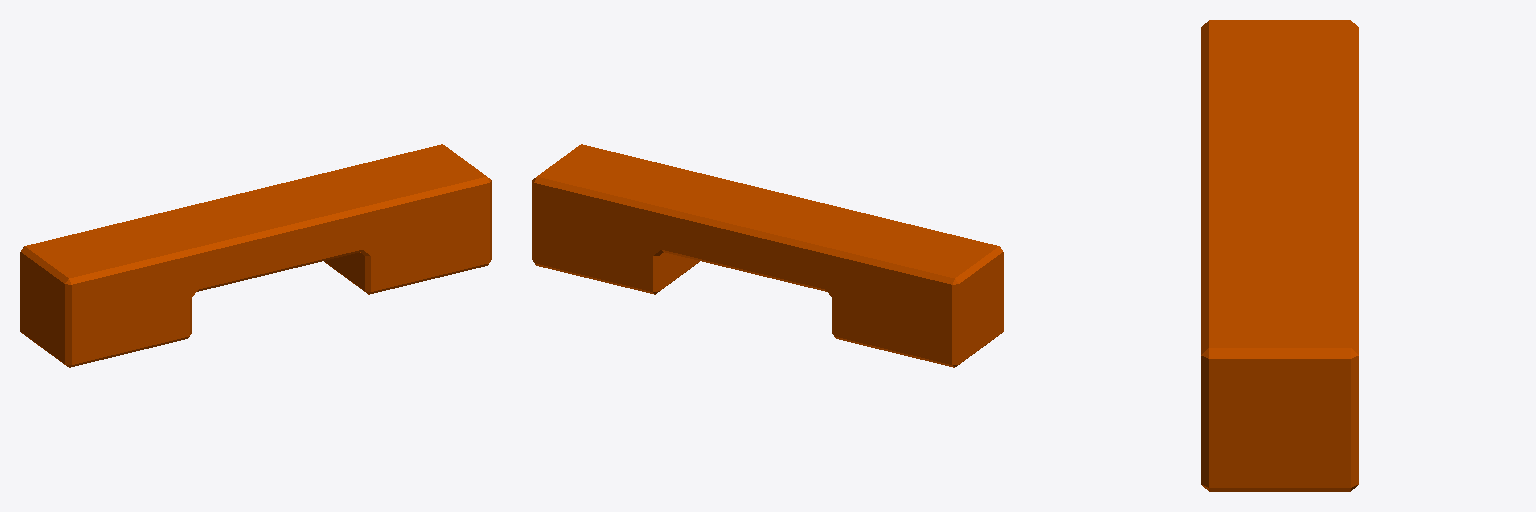
robot.urdf — obj_1:
<robot name="obj_1" version="1.0">
  <link name="obj_1">
    <collision name="obj_1.001">
      <origin rpy="0.00000 0.00000 0.00000" xyz="0.00000 0.00000 0.00000"/>
      <geometry>
        <mesh filename="../meshes/obj/geometry_0.002.obj" scale="1.00000 1.00000 1.00000"/>
      </geometry>
    </collision>
    <collision name="obj_1.002">
      <origin rpy="0.00000 0.00000 0.00000" xyz="0.00000 0.00000 0.00000"/>
      <geometry>
        <mesh filename="../meshes/obj/geometry_1.002.obj" scale="1.00000 1.00000 1.00000"/>
      </geometry>
    </collision>
    <collision name="obj_1.003">
      <origin rpy="0.00000 0.00000 0.00000" xyz="0.00000 0.00000 0.00000"/>
      <geometry>
        <mesh filename="../meshes/obj/geometry_2.002.obj" scale="1.00000 1.00000 1.00000"/>
      </geometry>
    </collision>
    <collision name="obj_1.004">
      <origin rpy="0.00000 0.00000 0.00000" xyz="0.00000 0.00000 0.00000"/>
      <geometry>
        <mesh filename="../meshes/obj/geometry_3.002.obj" scale="1.00000 1.00000 1.00000"/>
      </geometry>
    </collision>
    <collision name="obj_1.005">
      <origin rpy="0.00000 0.00000 0.00000" xyz="0.00000 0.00000 0.00000"/>
      <geometry>
        <mesh filename="../meshes/obj/geometry_4.002.obj" scale="1.00000 1.00000 1.00000"/>
      </geometry>
    </collision>
    <collision name="obj_1.006">
      <origin rpy="0.00000 0.00000 0.00000" xyz="0.00000 0.00000 0.00000"/>
      <geometry>
        <mesh filename="../meshes/obj/geometry_5.001.obj" scale="1.00000 1.00000 1.00000"/>
      </geometry>
    </collision>
    <collision name="obj_1.007">
      <origin rpy="0.00000 0.00000 0.00000" xyz="0.00000 0.00000 0.00000"/>
      <geometry>
        <mesh filename="../meshes/obj/geometry_6.001.obj" scale="1.00000 1.00000 1.00000"/>
      </geometry>
    </collision>
    <collision name="obj_1.008">
      <origin rpy="0.00000 0.00000 0.00000" xyz="0.00000 0.00000 0.00000"/>
      <geometry>
        <mesh filename="../meshes/obj/geometry_7.001.obj" scale="1.00000 1.00000 1.00000"/>
      </geometry>
    </collision>
    <collision name="obj_1.009">
      <origin rpy="0.00000 0.00000 0.00000" xyz="0.00000 0.00000 0.00000"/>
      <geometry>
        <mesh filename="../meshes/obj/geometry_8.obj" scale="1.00000 1.00000 1.00000"/>
      </geometry>
    </collision>
    <inertial>
      <inertia ixx="0.00002" ixy="0.00000" ixz="0.00000" iyy="0.00023" iyz="-0.00000" izz="0.00023"/>
      <origin rpy="0.00000 0.00000 0.00000" xyz="0.00000 0.00000 0.00000"/>
      <mass value="0.01000"/>
    </inertial>
    <visual name="obj_1_vis">
      <material name="turnarrow_orange"/>
      <origin rpy="3.14159 -0.00000 3.14159" xyz="-0.26466 0.24927 0.29151"/>
      <geometry>
        <mesh filename="../meshes/obj/obj_1_LUBAANSUO2.stp.obj" scale="0.00500 0.00500 0.00500"/>
      </geometry>
    </visual>
  </link>
  <material name="turnarrow_orange">
    <color rgba="0.78824 0.34510 0.00000 1.00000"/>
  </material>
</robot>

--- What the picture shows (computed from the rendered views, not written in the file) ---
The picture shows the robot from 3 angles, left to right: view 1: azimuth 30°, elevation 25°; view 2: azimuth 150°, elevation 25°; view 3: azimuth 270°, elevation 25°; orthographic projection.
Robot: obj_1 — 1 links, 0 joints (none); root link obj_1; default pose: every joint at zero.
Visible links, largest first — view 1: obj_1; view 2: obj_1; view 3: obj_1.
Boxes of the visible links, x1,y1,x2,y2 form: obj_1: [20, 144, 491, 367]; obj_1: [532, 144, 1003, 367]; obj_1: [1201, 20, 1358, 491].
Bounding box of the posed robot: 0.5 × 0.1 × 0.1 m (x, y, z).
Meshes: 1 distinct files referenced, 1 mesh visuals loaded (1 OBJ).